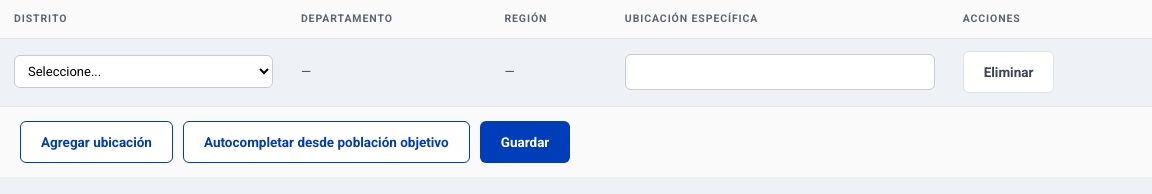
Test: AreaInfluenciaTab · CU-PRE-08 › autocompletar trae las filas de población objetivo sin guardarlas
Expected: the dropdown named "Distrito de la fila 1" is shown, [14, 55, 273, 88]
What coordinates should you click on to do the following:
click the button "Autocompletar desde población objetivo"
I would click on:
 (326, 142)
Its box is [183, 121, 470, 163].
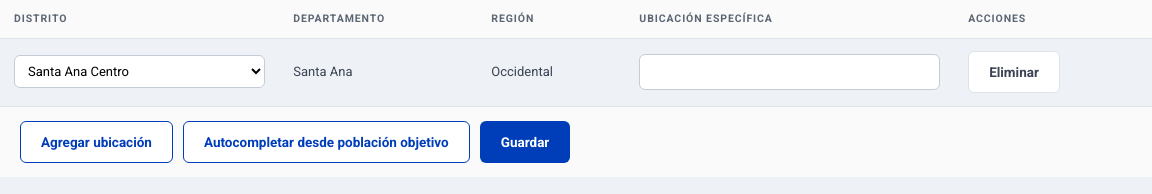
Expected: the dropdown named "Distrito de la fila 1" shows "Santa Ana Centro", [14, 55, 265, 88]
